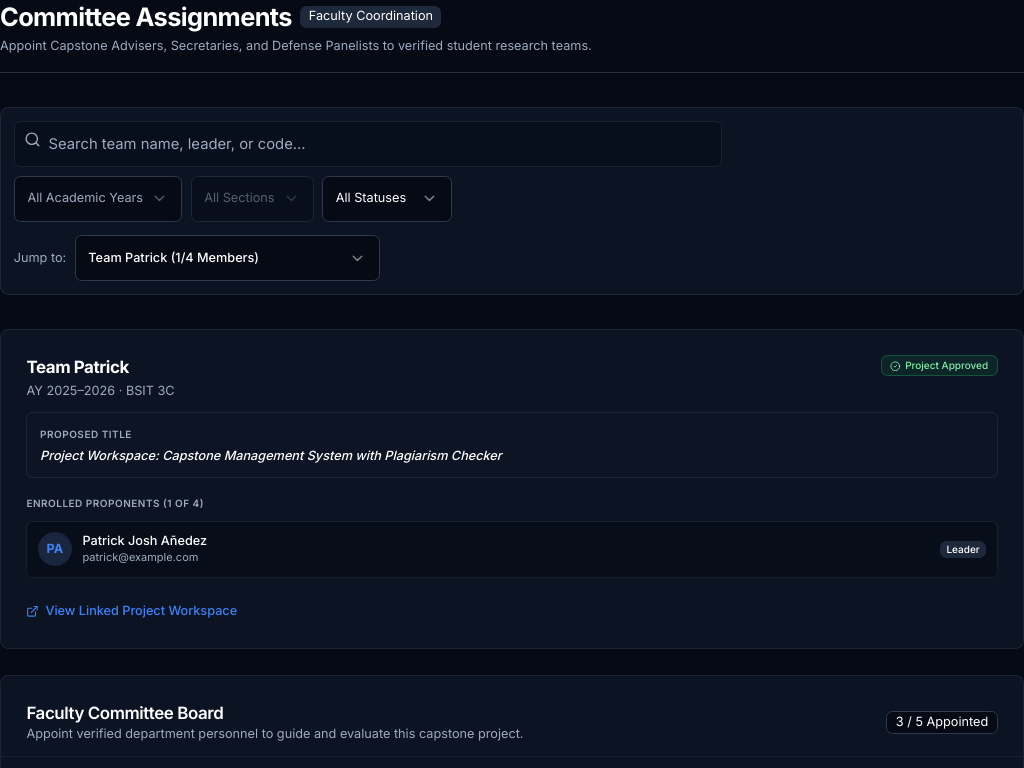
TeamCommitteeAssignmentsView UI/UX Suite › filters committee completion status through the shared Select control
The width and height of the screenshot is (1024, 768).
Click the dropdown named "Filter by committee status".
click(387, 199)  # box [322, 176, 452, 222]
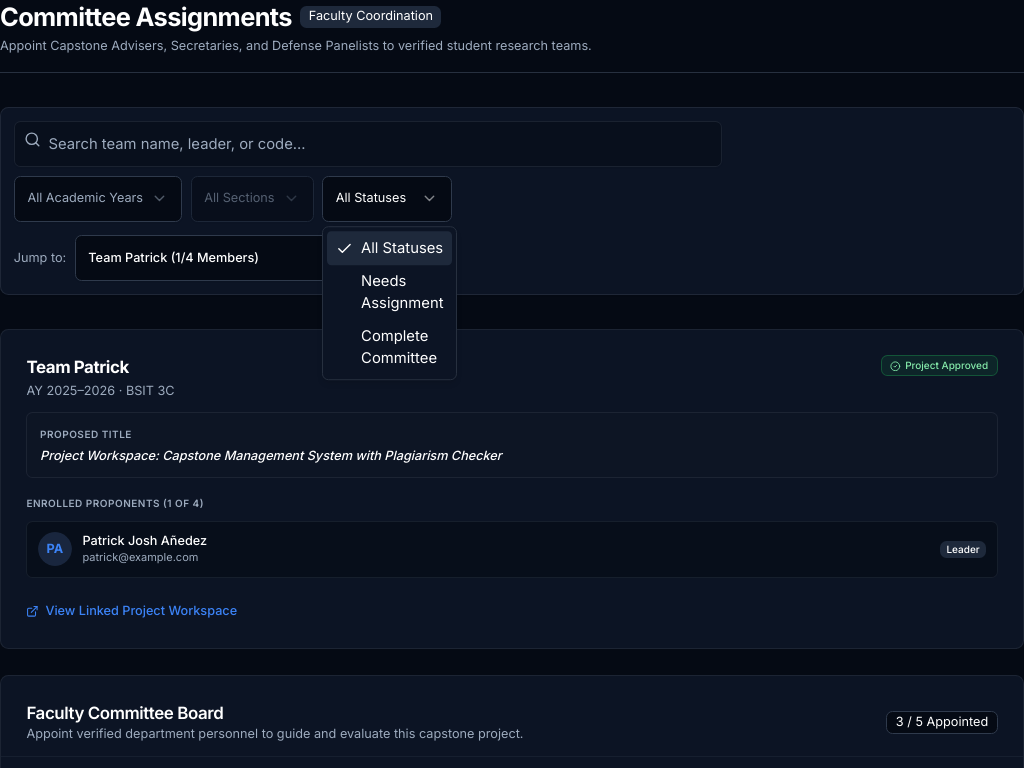
Now the option "Complete Committee" is shown
Click the option "Complete Committee".
click(399, 347)  # box [361, 328, 437, 367]
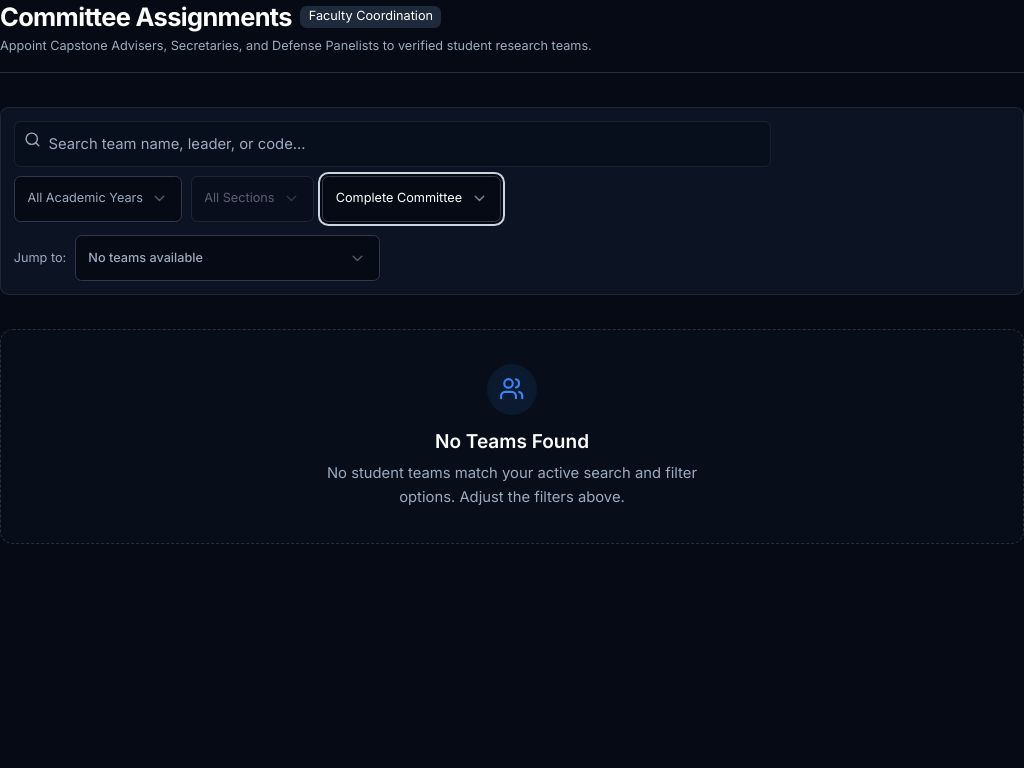
Now the text "No Teams Found" is shown, box [435, 427, 589, 457]
Now the text "Team Patrick" is gone
